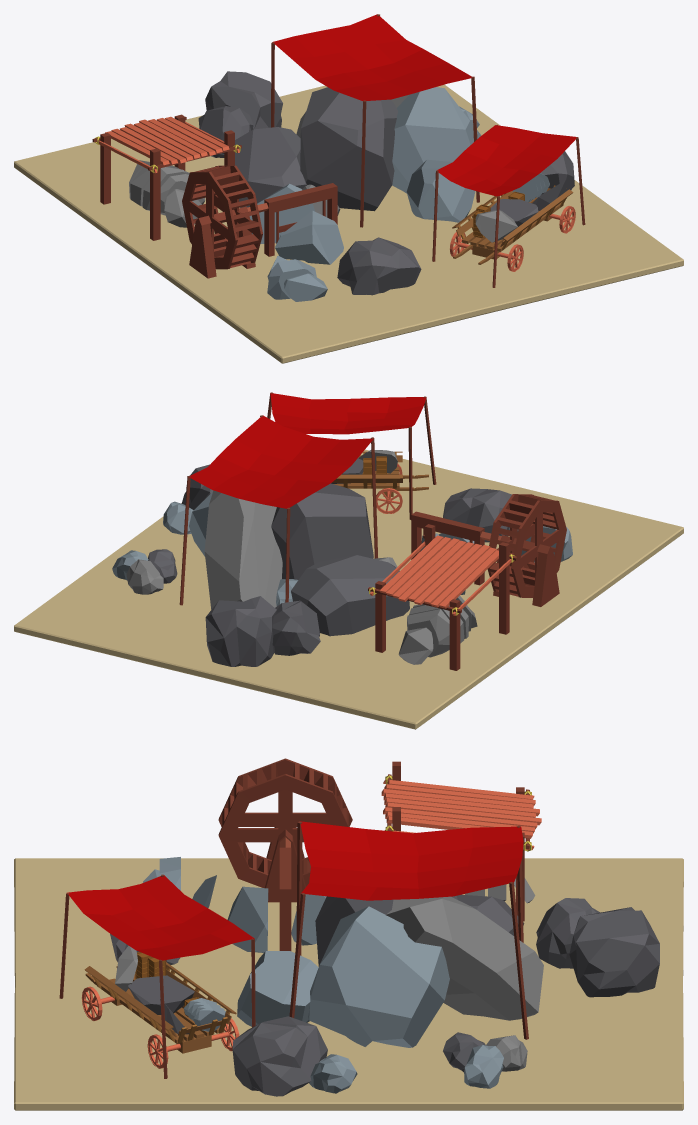
The model's file is quarry.fbx.
3 views of the same model, one above another, from view 1: azimuth 30°, elevation 25°; view 2: azimuth 150°, elevation 25°; view 3: azimuth 270°, elevation 25° (orthographic). The views are drawn at different scales.
Visible parts, largest first — view 1: Cylinder, Cube.055, Cube.035, TelaPiedras, Noria, TelaCarreta, CasetaTecho, Cube.029, Caseta, Sierra, PilaresCasetaPiedras, Ruedas (+3 smaller); view 2: Cylinder, Cube.055, Cube.029, TelaPiedras, Noria, CasetaTecho, TelaCarreta, Cube.035, Caseta, Sierra, PilaresCasetaPiedras, PilaresCasetyaCarreta (+1 smaller); view 3: Cylinder, Cube.035, Cube.055, TelaPiedras, Cube.029, Noria, TelaCarreta, CasetaTecho, PilaresCasetaPiedras, Ruedas, TablonesL, Sierra (+3 smaller).
Boxes of the visible parts, x1,y1,x2,y2 form: Cylinder: (14,84,683,363); Cube.055: (198,71,574,295); Cube.035: (249,87,549,301); TelaPiedras: (273,14,472,100); Noria: (182,165,262,278); TelaCarreta: (437,125,577,196); CasetaTecho: (97,116,239,172); Cube.029: (129,94,517,242); Caseta: (92,114,241,240); Sierra: (264,183,337,256); PilaresCasetaPiedras: (271,14,479,227); Ruedas: (450,206,575,271); Cylinder: (14,449,683,729); Cube.055: (148,457,518,666); Cube.029: (126,450,477,664); TelaPiedras: (189,415,373,508); Noria: (487,494,566,606); CasetaTecho: (370,535,511,615); TelaCarreta: (270,393,426,434); Cube.035: (112,492,572,606); Caseta: (368,524,517,670); Sierra: (411,511,484,585); PilaresCasetaPiedras: (179,415,377,605); PilaresCasetyaCarreta: (267,392,436,519); Cylinder: (14,858,683,1110); Cube.035: (143,857,503,1093); Cube.055: (110,894,659,1096); TelaPiedras: (300,821,523,900); Cube.029: (115,878,543,1071); Noria: (218,758,352,902); TelaCarreta: (67,875,254,960); CasetaTecho: (381,779,541,849); PilaresCasetaPiedras: (289,821,528,1039); Ruedas: (82,986,239,1068); TablonesL: (84,962,236,1037); Sierra: (279,847,291,950).
Size of the model in its own units: 6243 by 2197 by 7213.
